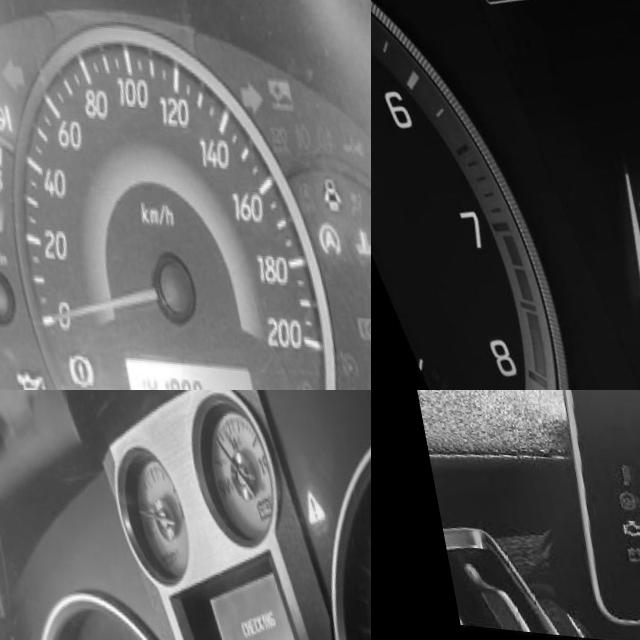High Engine Coolant Temperature: (340, 211, 365, 249)
